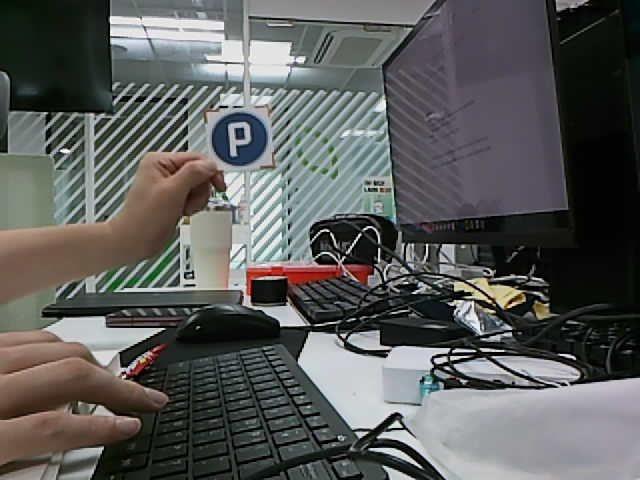park: (212, 113, 267, 166)
